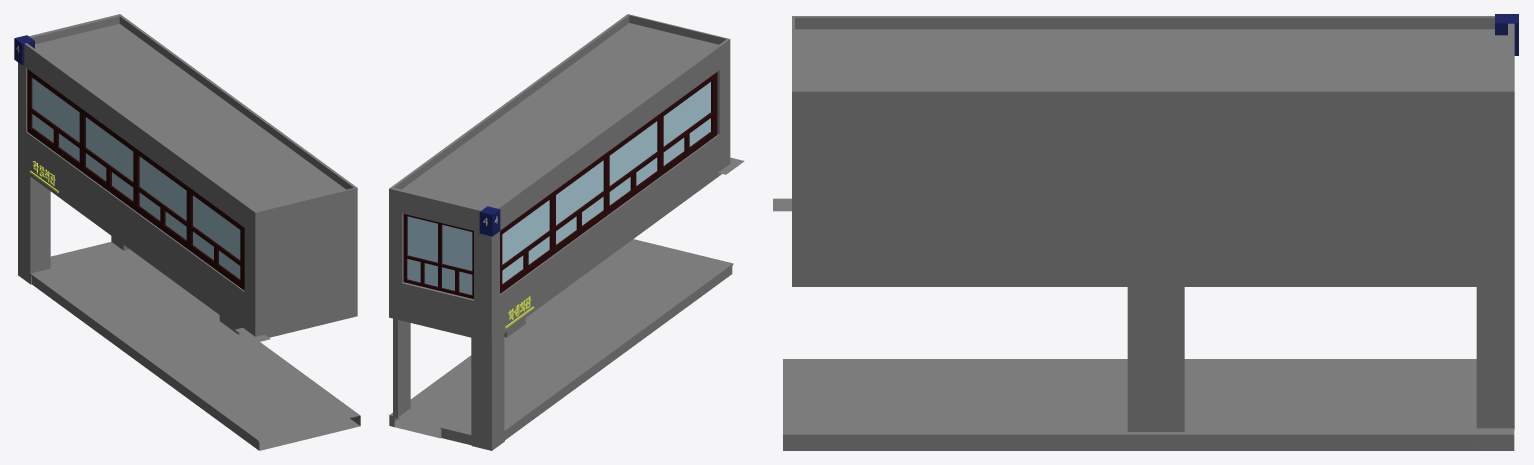
The model's file is B4Enter.glb.
3 views of the same model, side by side, from view 1: azimuth 30°, elevation 25°; view 2: azimuth 150°, elevation 25°; view 3: azimuth 270°, elevation 25° (orthographic). The views are drawn at different scales.
Parts seen in each view (by area): view 1: B4Enter; view 2: B4Enter; view 3: B4Enter.
Boxes of the visible parts, x1,y1,x2,y2 form: B4Enter: (14, 14, 360, 450); B4Enter: (389, 14, 744, 450); B4Enter: (773, 14, 1518, 450).
Bounding box in the file's own units: 21.59 × 44.27 × 83.2.
